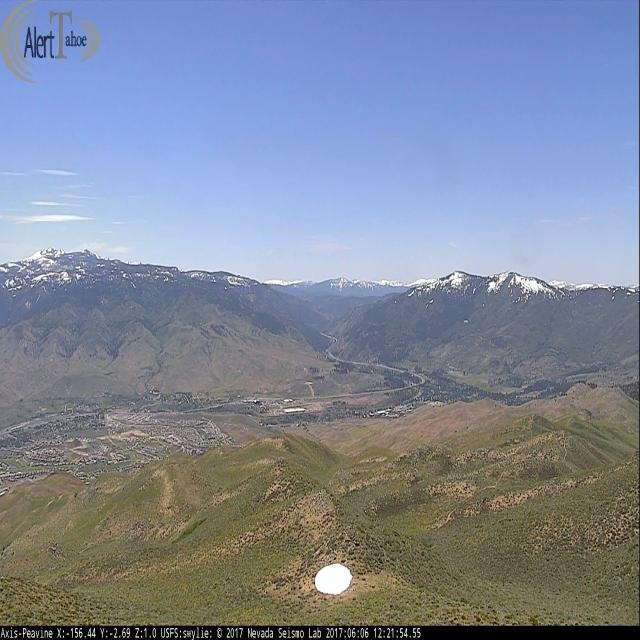smoke: (316, 393, 329, 424)
